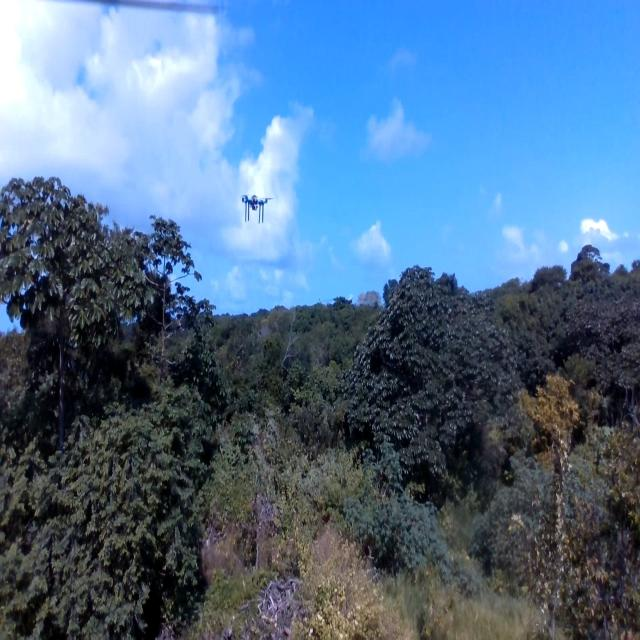-uav-: (232, 176, 278, 237)
